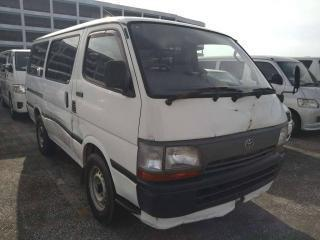Van: (23, 18, 290, 227)
